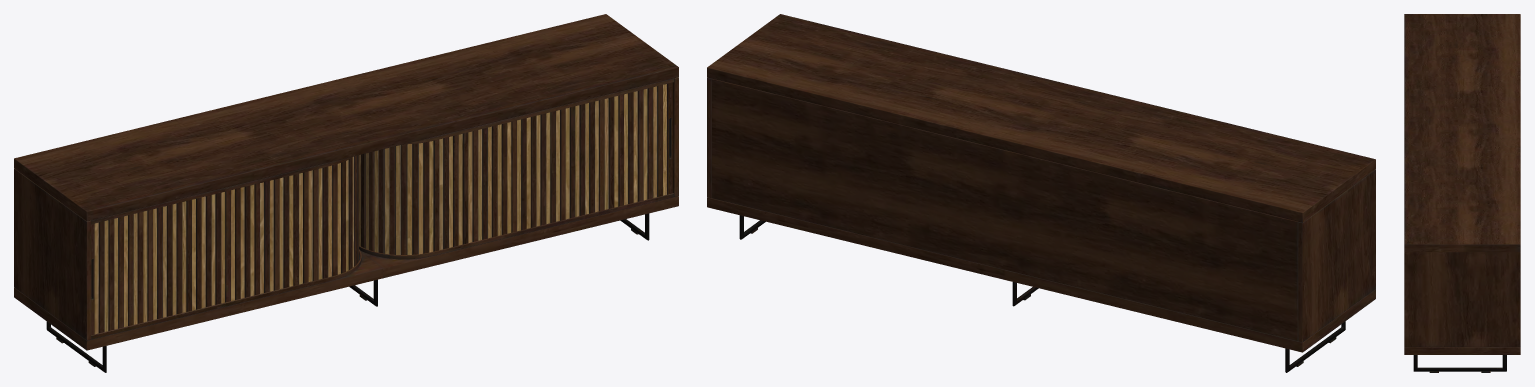
File: tv-unitesi.glb
The picture shows the model from 3 angles, left to right: view 1: azimuth 30°, elevation 25°; view 2: azimuth 150°, elevation 25°; view 3: azimuth 270°, elevation 25°; orthographic projection. The views are drawn at different scales.
Visible parts, largest first — view 1: modern_wooden_cabinet_body, modern_wooden_cabinet_door_r, modern_wooden_cabinet_door_l; view 2: modern_wooden_cabinet_body; view 3: modern_wooden_cabinet_body.
Part boxes in pixels (left/top/right/bottom): modern_wooden_cabinet_body: left=14, top=14, right=678, bottom=372; modern_wooden_cabinet_door_r: left=359, top=82, right=672, bottom=254; modern_wooden_cabinet_door_l: left=91, top=155, right=358, bottom=334; modern_wooden_cabinet_body: left=707, top=14, right=1375, bottom=372; modern_wooden_cabinet_body: left=1404, top=14, right=1520, bottom=372.
Size of the model in its own units: 2.44 by 0.6802 by 0.5199.
Materials: 1 (1 with a texture image).
